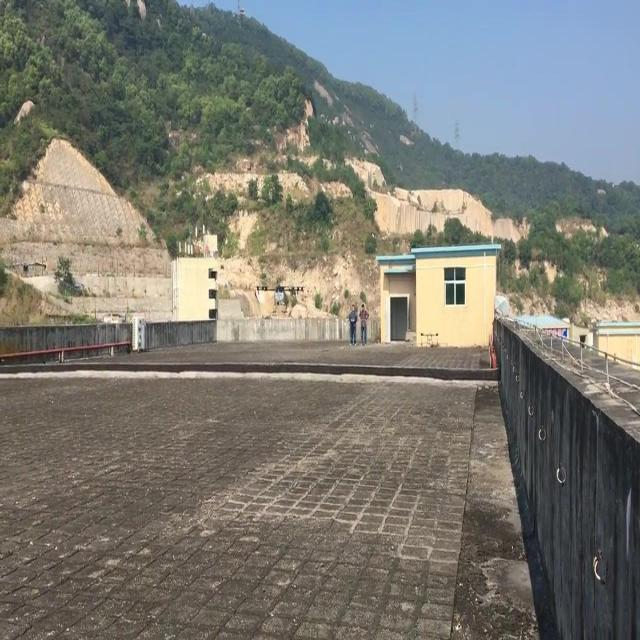drone: (256, 280, 305, 307)
